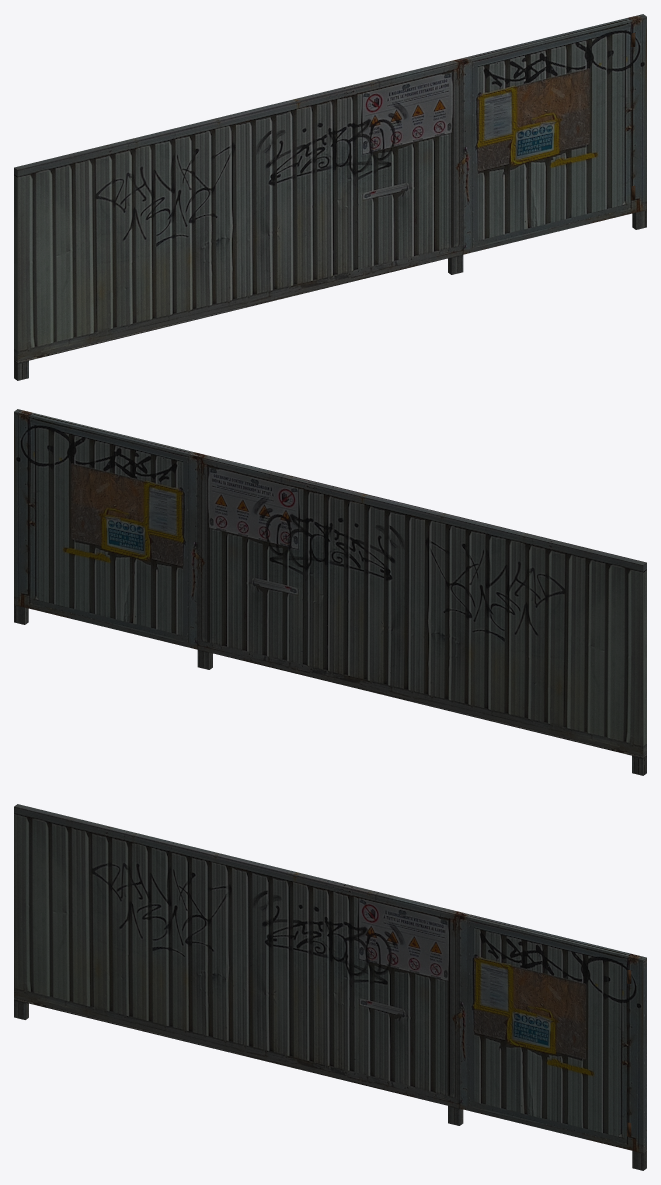
File: gate_1.obj
The picture shows the model from 3 angles, top to bottom: view 1: azimuth 30°, elevation 25°; view 2: azimuth 150°, elevation 25°; view 3: azimuth 330°, elevation 25°; orthographic projection.
Parts seen in each view (by area): view 1: gate_1, gate_1_moving_part; view 2: gate_1, gate_1_moving_part; view 3: gate_1, gate_1_moving_part.
Boxes of the visible parts, <box> form: gate_1: <box>14,14,646,380</box>; gate_1_moving_part: <box>460,17,635,254</box>; gate_1: <box>14,409,646,775</box>; gate_1_moving_part: <box>28,412,200,649</box>; gate_1: <box>14,804,646,1170</box>; gate_1_moving_part: <box>459,912,632,1149</box>.
Size of the model in its own units: 5 by 1.6 by 0.065.
